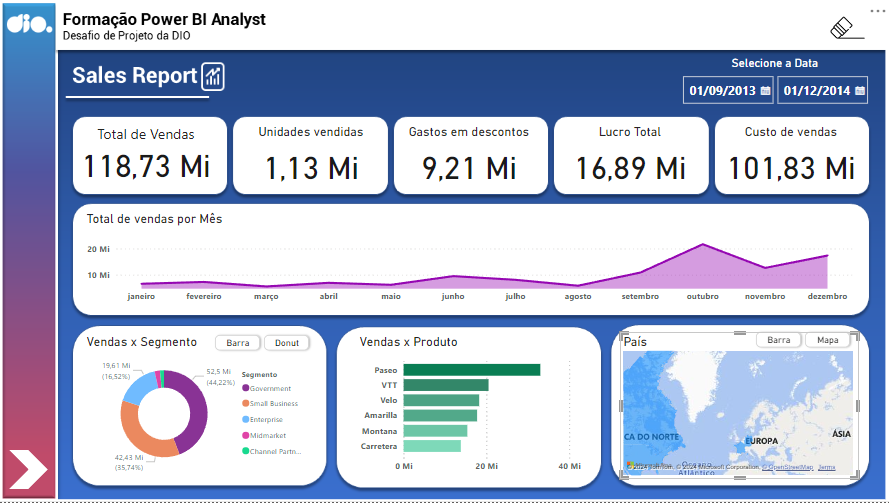

The page's visual inventory and layout, read from the dashboard file:
{"tool":"powerbi","page":{"name":"Página 1","canvas":[1280,720],"ordinal":0},"visuals":[{"type":"image","box":[0,0,1280.5,720],"z":0},{"type":"image","box":[1189.4,12.5,59.2,59.2],"z":0,"group":"g1"},{"type":"card","title":"Total de Vendas","fields":{"Values":["Sum(F_Vendas. Sales)"]},"box":[113.5,180.4,205.3,94.9],"z":0,"group":"g2"},{"type":"filledMap","title":"País","fields":{"Category":["F_Vendas.Country"]},"box":[893,480,341.7,206.7],"z":500,"group":"g3"},{"type":"slicer","title":"Selecione a Data","fields":{"Values":["F_Vendas.Date"]},"box":[970.2,82.8,288.1,75.2],"z":1000,"group":"g1"},{"type":"card","title":"Unidades vendidas","fields":{"Values":["Sum(F_Vendas.Units Sold)"]},"box":[349.9,180.4,205.3,94.9],"z":1000,"group":"g2"},{"type":"shape","box":[20,645.7,55.7,55.7],"z":1000},{"type":"clusteredBarChart","title":"Vendas x Segmento ","fields":{"Category":["D_Detalhes.Segment"],"Y":["Sum(D_Detalhes. Sales)"]},"box":[126.7,480,326.7,206.7],"z":1125,"group":"g4"},{"type":"donutChart","title":"Vendas x Segmento ","fields":{"Category":["D_Detalhes.Segment"],"Y":["Sum(D_Detalhes. Sales)"]},"box":[126,480.6,326.6,206.9],"z":1187,"group":"g4"},{"type":"actionButton","title":"Barra","box":[1087.8,477.4,63.8,21.5],"z":1250,"group":"g3"},{"type":"actionButton","title":"Donut","box":[385,481.5,63.8,21.5],"z":1250,"group":"g4"},{"type":"actionButton","title":"Mapa","box":[1157.8,477.4,63.8,21.5],"z":1500,"group":"g3"},{"type":"actionButton","title":"Barra","box":[315,481.5,63.8,21.5],"z":1500,"group":"g4"},{"type":"actionButton","box":[1189.5,21.6,58.6,39.5],"z":2000,"group":"g1"},{"type":"card","title":"Gastos em descontos","fields":{"Values":["Sum(D_Detalhes.Discounts)"]},"box":[575.4,180.4,205.3,94.9],"z":2000,"group":"g2"},{"type":"stackedAreaChart","title":"Total de vendas por Mês","fields":{"Category":["F_Vendas.Date.Variation.Hierarquia de datas.Mês"],"Y":["Sum(F_Vendas. Sales)"]},"box":[126,304.8,1104.3,140],"z":2000},{"type":"card","title":"Lucro Total","fields":{"Values":["Sum(D_Detalhes.Profit)"]},"box":[805.6,180.4,205.3,94.9],"z":3000,"group":"g2"},{"type":"clusteredBarChart","title":"Vendas x Produto","fields":{"Category":["D_Detalhes.Product"],"Y":["Sum(D_Detalhes. Sales)"]},"box":[515,480,326.7,206.7],"z":3000},{"type":"group","id":"g1","title":"Segmentação por data","box":[970.2,12.5,288.1,145.6],"z":4000},{"type":"card","title":"Custo de vendas","fields":{"Values":["Sum(D_Detalhes.COGS)"]},"box":[1034.2,180.4,205.3,94.9],"z":4000,"group":"g2"},{"type":"group","id":"g2","title":"Cartões","box":[113.5,180.4,1126,94.9],"z":5000},{"type":"group","id":"g3","title":"Vendas por país","box":[893,477.4,341.7,210.1],"z":6000},{"type":"group","id":"g4","title":"Vendas por segmento","box":[126,480,327.4,207.4],"z":7000},{"type":"image","box":[286.2,82.5,51.2,58.8],"z":8000}]}

Visuals, with their boxes on the page's 1280x720 design canvas (x1, y1, x2, y2). These are canvas units, not pixel positions in the 889x503 screenshot, which may show the page scaled, cropped or inside an application window:
image: bbox=(0, 0, 1280, 720)
image: bbox=(1189, 12, 1249, 72)
"Total de Vendas" card: bbox=(114, 180, 319, 275)
"País" filledMap: bbox=(893, 480, 1235, 687)
"Selecione a Data" slicer: bbox=(970, 83, 1258, 158)
"Unidades vendidas" card: bbox=(350, 180, 555, 275)
shape: bbox=(20, 646, 76, 701)
"Vendas x Segmento " clusteredBarChart: bbox=(127, 480, 453, 687)
"Vendas x Segmento " donutChart: bbox=(126, 481, 453, 688)
"Barra" actionButton: bbox=(1088, 477, 1152, 499)
"Donut" actionButton: bbox=(385, 482, 449, 503)
"Mapa" actionButton: bbox=(1158, 477, 1222, 499)
"Barra" actionButton: bbox=(315, 482, 379, 503)
actionButton: bbox=(1190, 22, 1248, 61)
"Gastos em descontos" card: bbox=(575, 180, 781, 275)
"Total de vendas por Mês" stackedAreaChart: bbox=(126, 305, 1230, 445)
"Lucro Total" card: bbox=(806, 180, 1011, 275)
"Vendas x Produto" clusteredBarChart: bbox=(515, 480, 842, 687)
"Segmentação por data" group: bbox=(970, 12, 1258, 158)
"Custo de vendas" card: bbox=(1034, 180, 1240, 275)
"Cartões" group: bbox=(114, 180, 1240, 275)
"Vendas por país" group: bbox=(893, 477, 1235, 688)
"Vendas por segmento" group: bbox=(126, 480, 453, 687)
image: bbox=(286, 82, 337, 141)
